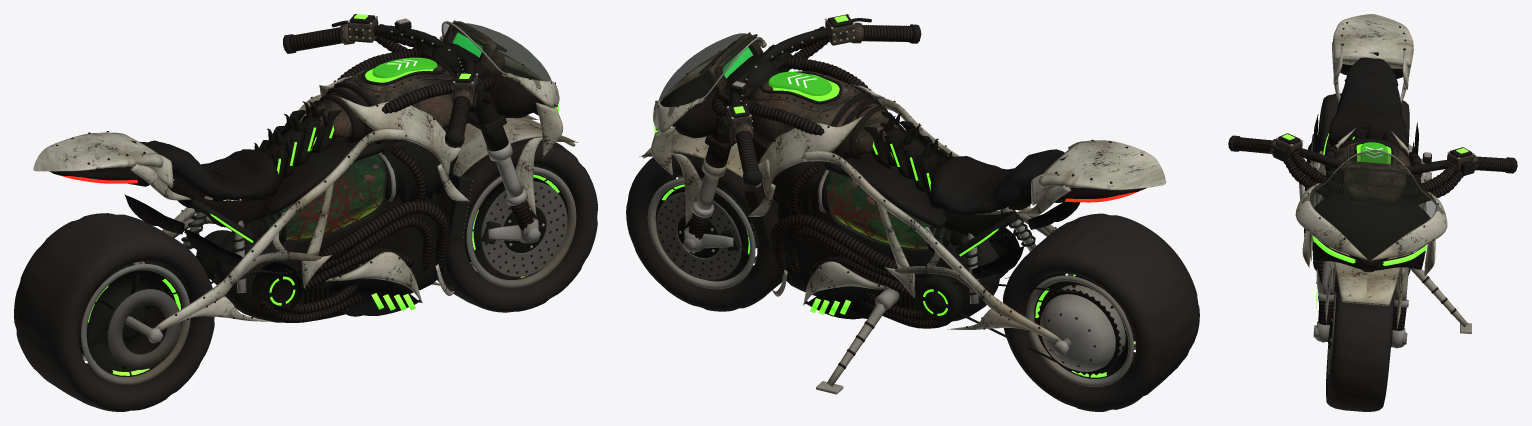
The model's file is bike5.glb.
3 renders of one model, left to right at view 1: azimuth 30°, elevation 25°; view 2: azimuth 150°, elevation 25°; view 3: azimuth 270°, elevation 25°, orthographic. The views are drawn at different scales.
Parts seen in each view (by area): view 1: Bike5, Wheel5Rear, Wheel5Front, Bike5Button; view 2: Bike5, Wheel5Rear, Wheel5Front, Bike5Button; view 3: Bike5, Wheel5Front, Wheel5Rear, Bike5Button.
Boxes of the visible parts, x1,y1,x2,y2 form: Bike5: (33, 14, 578, 330); Wheel5Rear: (14, 213, 214, 411); Wheel5Front: (437, 137, 597, 312); Bike5Button: (372, 57, 437, 78); Bike5: (639, 14, 1166, 394); Wheel5Rear: (1003, 213, 1199, 411); Wheel5Front: (626, 152, 782, 311); Bike5Button: (768, 71, 831, 95); Bike5: (1228, 14, 1517, 348); Wheel5Front: (1313, 271, 1407, 411); Wheel5Rear: (1289, 93, 1431, 199); Bike5Button: (1360, 142, 1387, 163).
Bounding box in the file's own units: 2.2 × 1.08 × 1.19.
Materials: 20 (4 with a texture image).
